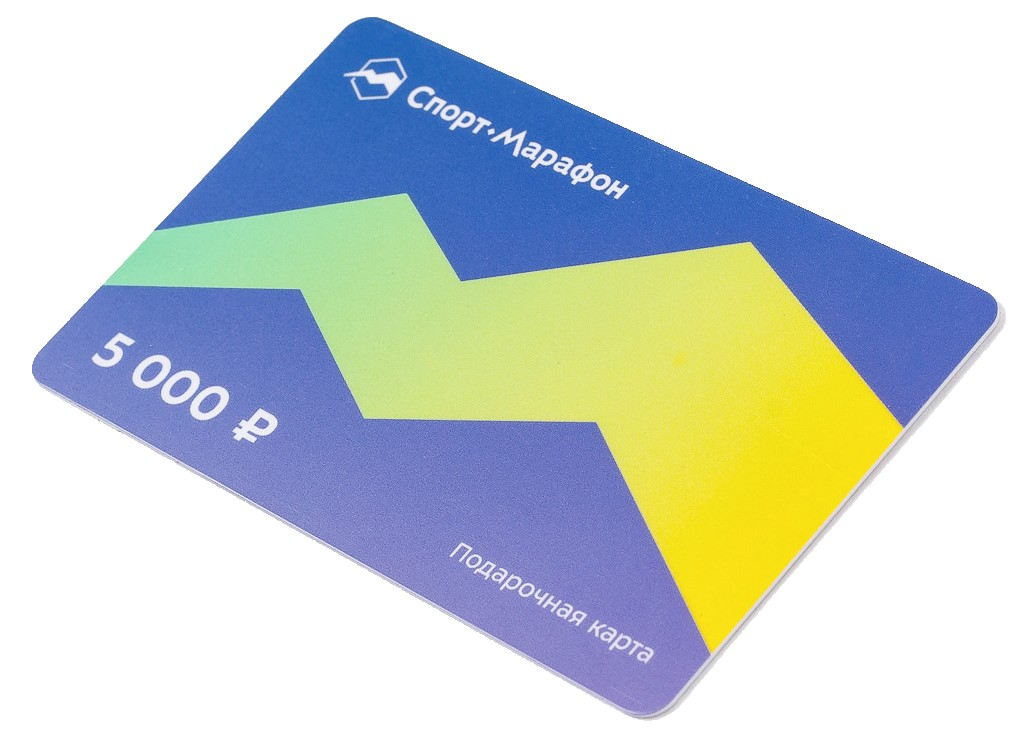card: (33, 14, 998, 717)
